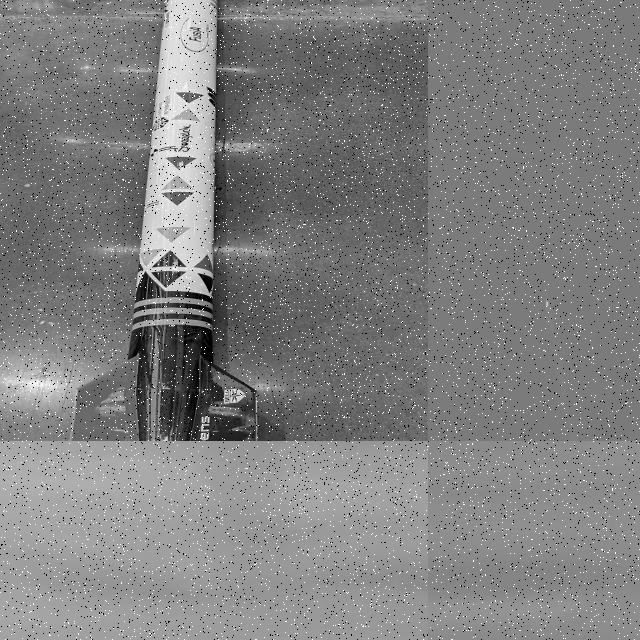Rocket: (69, 0, 258, 441), (545, 298, 549, 307)
